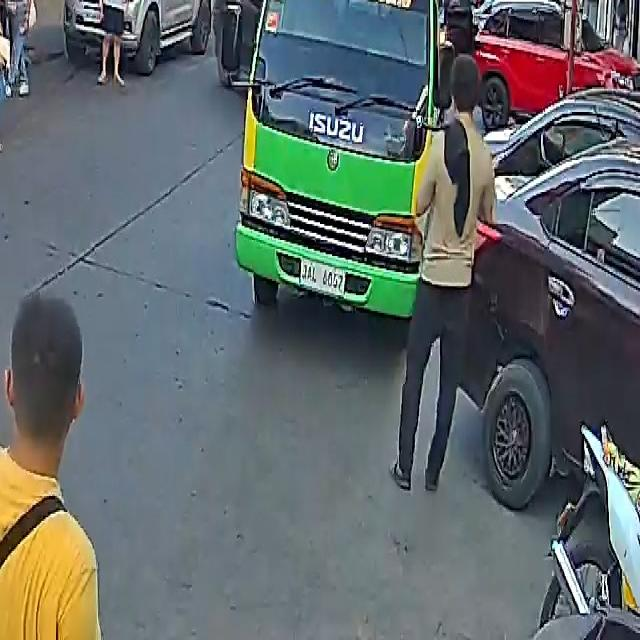car: (460, 157, 640, 516), (471, 0, 637, 132), (59, 0, 212, 75)
